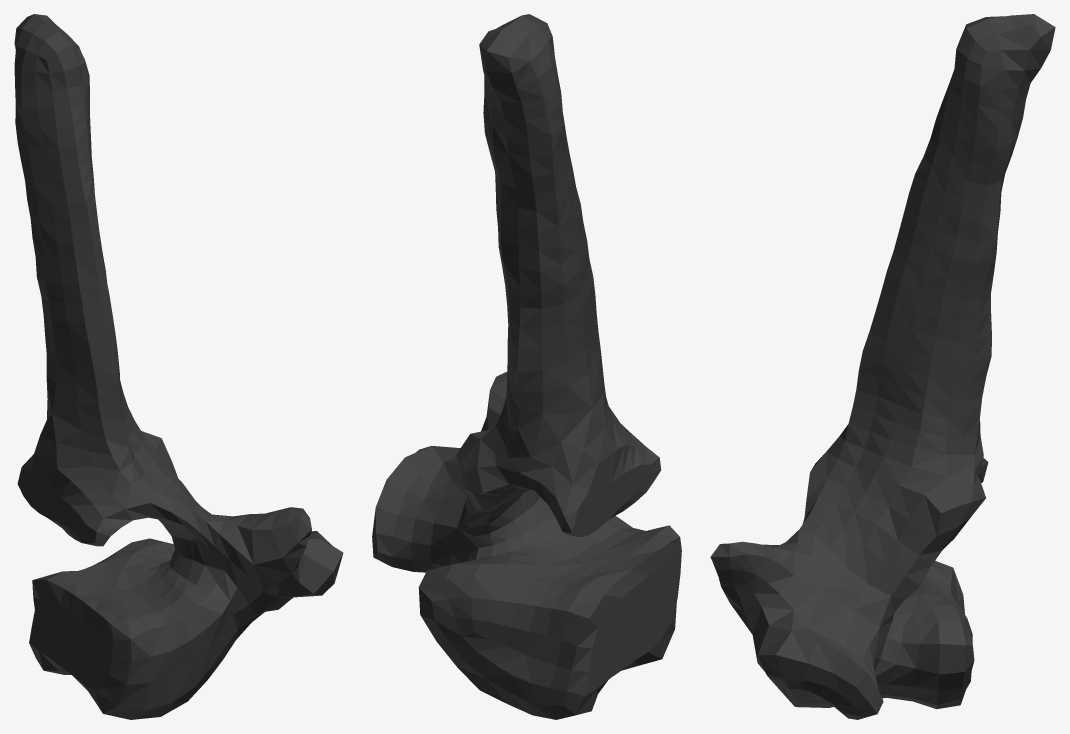
3 views of the same model, side by side, from view 1: azimuth 30°, elevation 25°; view 2: azimuth 150°, elevation 25°; view 3: azimuth 270°, elevation 25° (orthographic). The views are drawn at different scales.
Parts seen in each view (by area): view 1: T1; view 2: T1; view 3: T1.
Boxes of the visible parts, x1,y1,x2,y2 form: T1: (14,14,343,719); T1: (372,14,681,719); T1: (710,14,1055,719).
Bounding box in the file's own units: 0.00818 × 0.021 × 0.00962.
Materials: 1 (1 with a texture image).
